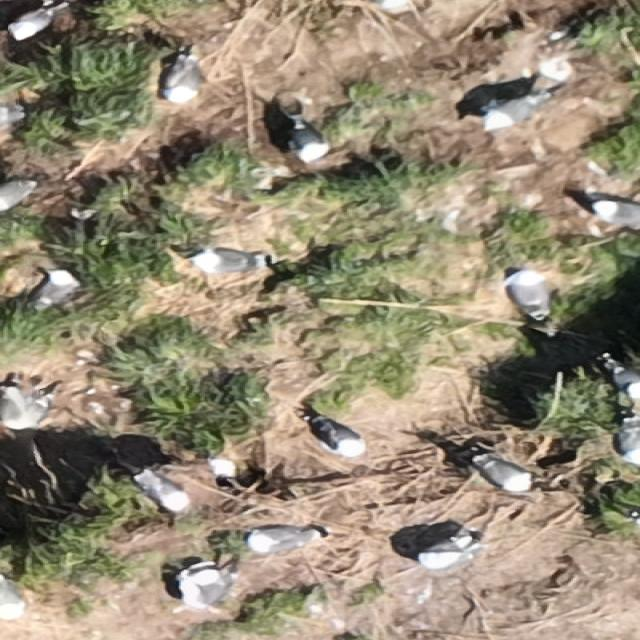umineko: (478, 89, 557, 133), (465, 450, 534, 492), (131, 467, 192, 513), (183, 566, 239, 613), (419, 534, 479, 572), (3, 387, 51, 432), (510, 270, 552, 321), (159, 55, 202, 104), (11, 9, 55, 37), (1, 177, 41, 206), (597, 200, 639, 227), (200, 252, 256, 272), (258, 532, 313, 552), (613, 422, 638, 466), (294, 127, 324, 161), (208, 458, 247, 484), (610, 366, 640, 398), (41, 272, 71, 303), (328, 427, 361, 454), (0, 181, 31, 209), (1, 106, 22, 128)
